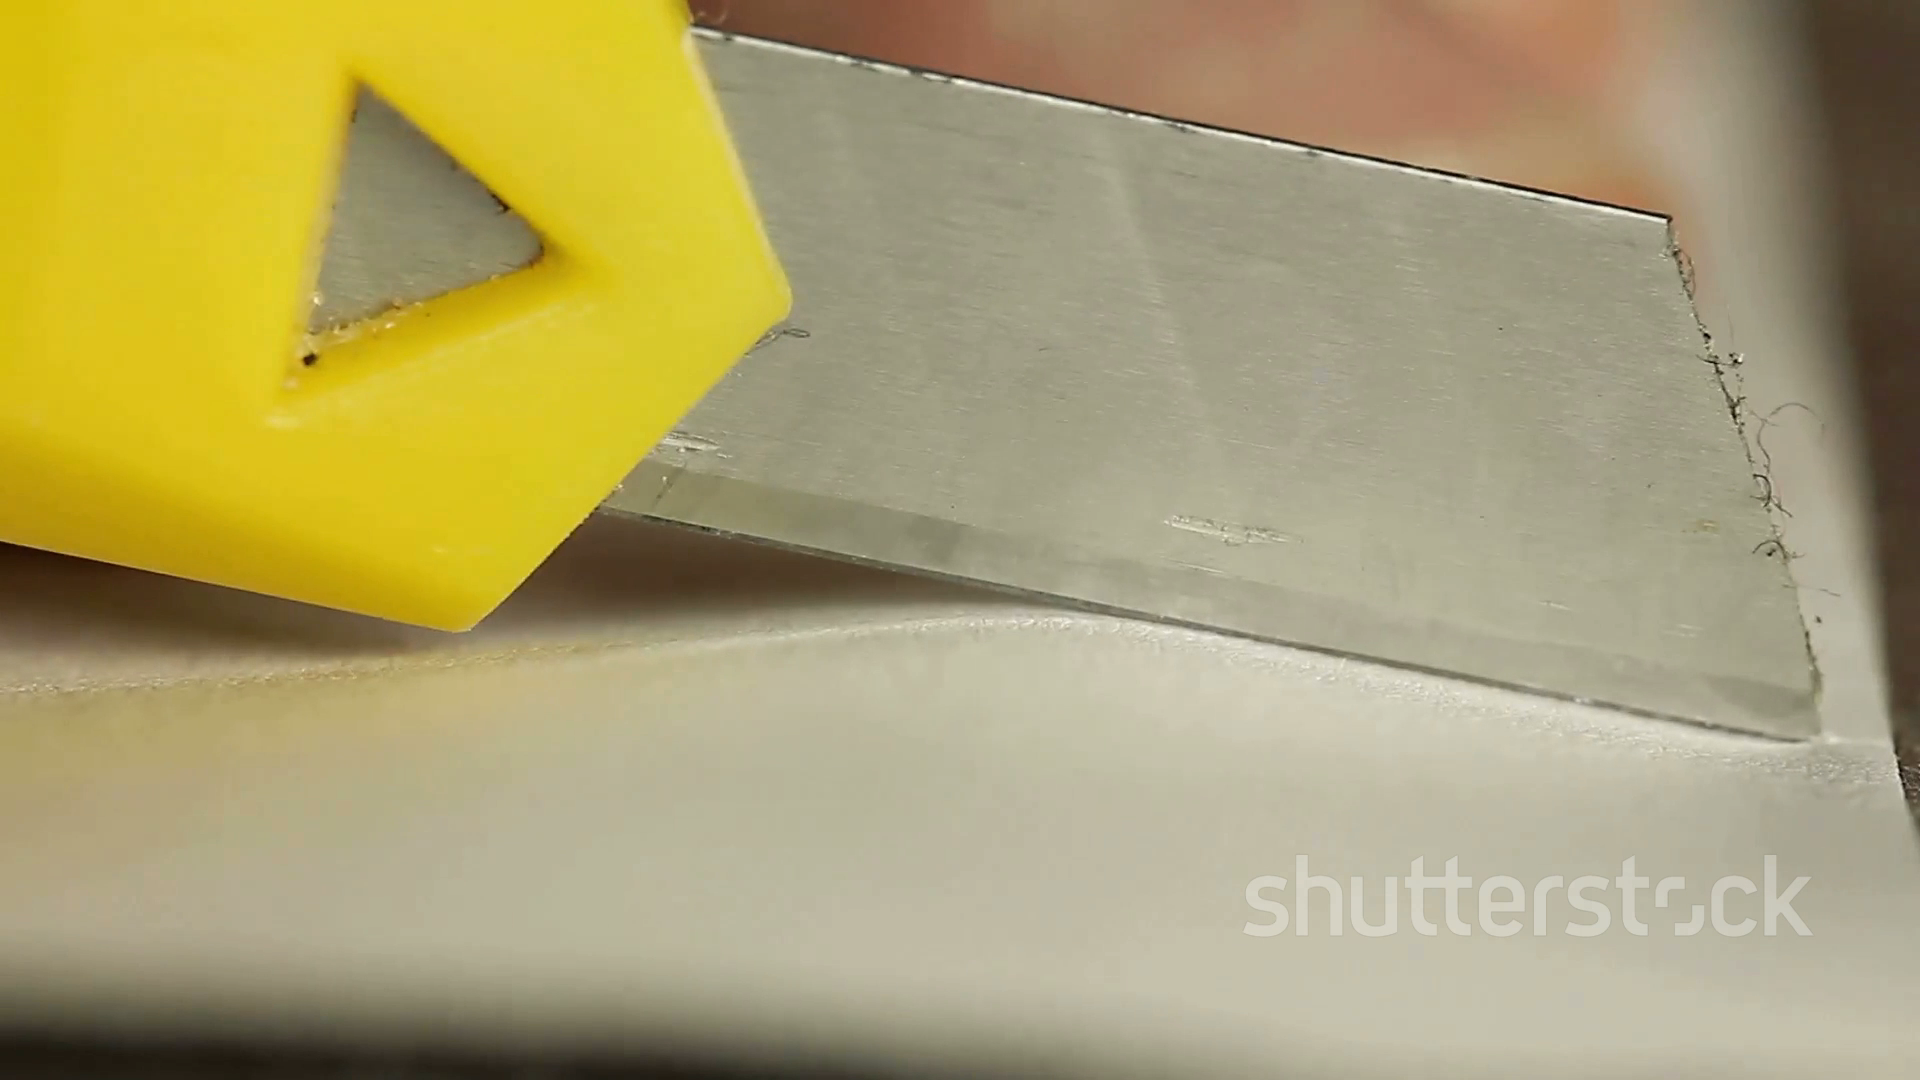cortante: (596, 28, 1821, 740)
